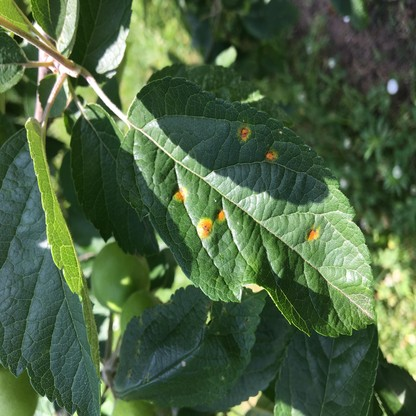rust: (197, 219, 212, 237), (172, 185, 187, 201), (236, 126, 250, 143), (305, 227, 320, 242), (264, 147, 276, 161), (216, 207, 225, 221)
